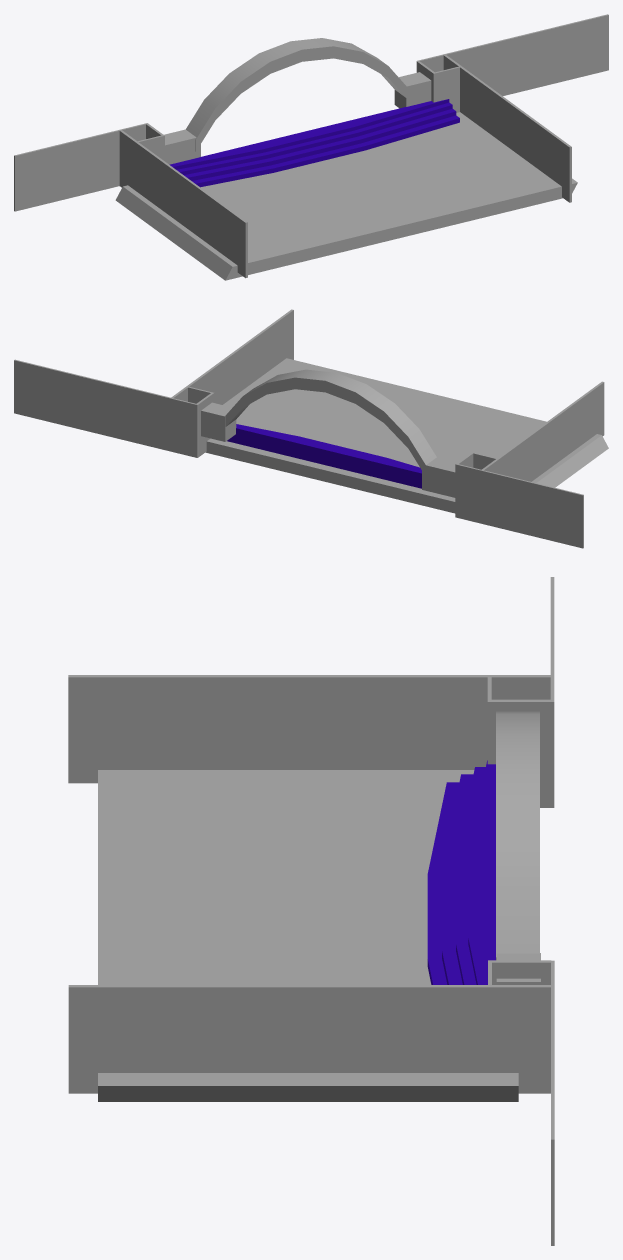
File: Archway Base v1.fbx
The picture shows the model from 3 angles, top to bottom: view 1: azimuth 30°, elevation 25°; view 2: azimuth 150°, elevation 25°; view 3: azimuth 270°, elevation 25°; orthographic projection. The views are drawn at different scales.
Visible parts, largest first — view 1: arch:Base2; view 2: arch:Base2; view 3: arch:Base2.
Boxes of the visible parts, <box> form: arch:Base2: <box>14,14,608,280</box>; arch:Base2: <box>14,309,608,548</box>; arch:Base2: <box>68,577,554,1245</box>.
Size of the model in its own units: 630 by 112 by 233.
